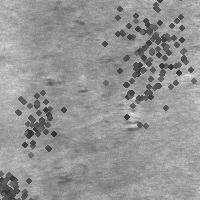rolled-in_scale: (90, 30, 194, 134), (89, 0, 200, 93), (0, 73, 83, 165), (88, 34, 147, 135), (0, 161, 31, 200)
